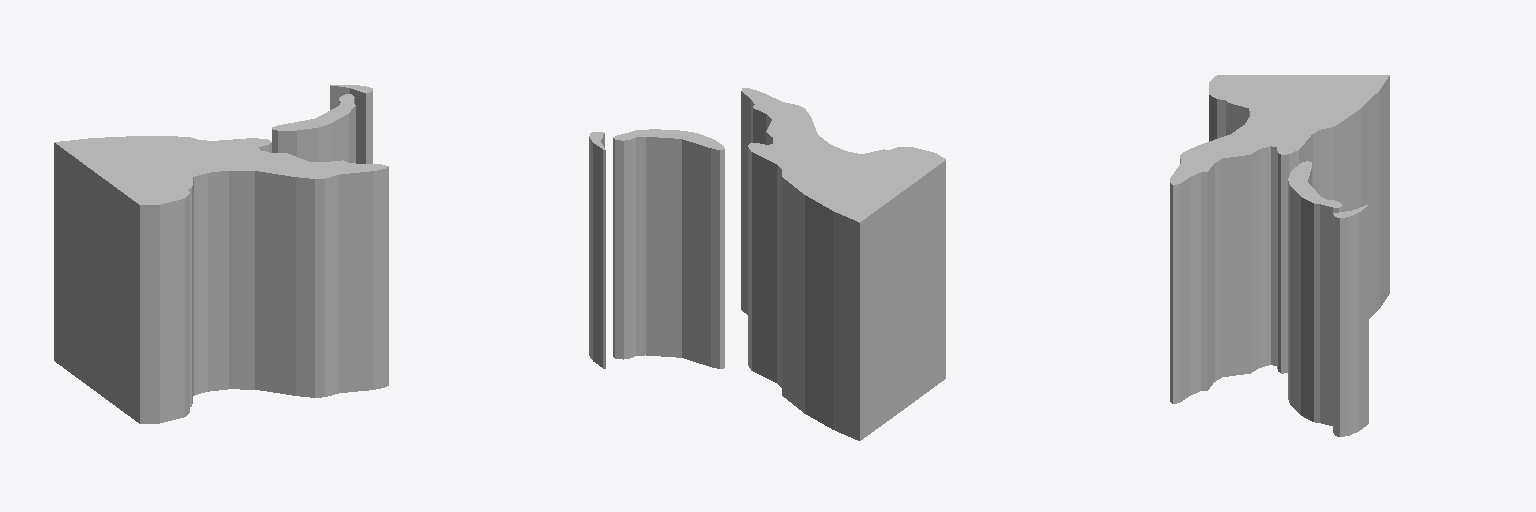
3 renders of one model, left to right at view 1: azimuth 30°, elevation 25°; view 2: azimuth 150°, elevation 25°; view 3: azimuth 270°, elevation 25°, orthographic.
Visible parts, largest first — view 1: PG.002_CUCurve.1742; view 2: PG.002_CUCurve.1742; view 3: PG.002_CUCurve.1742.
Boxes of the visible parts, <box> form: PG.002_CUCurve.1742: <box>54,85,388,423</box>; PG.002_CUCurve.1742: <box>589,88,945,440</box>; PG.002_CUCurve.1742: <box>1170,75,1389,436</box>.
Size of the model in its own units: 0.0704 by 0.05 by 0.0456.